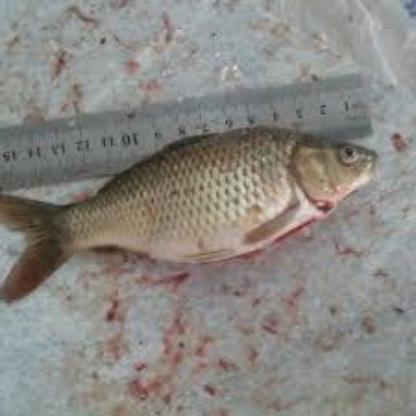ikan-mas: (16, 122, 382, 290)
